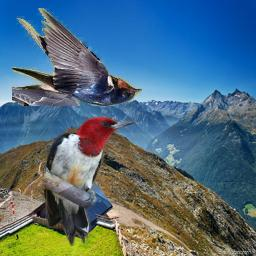Swallow: (12, 8, 142, 106)
Woodpecker: (44, 116, 136, 246)
